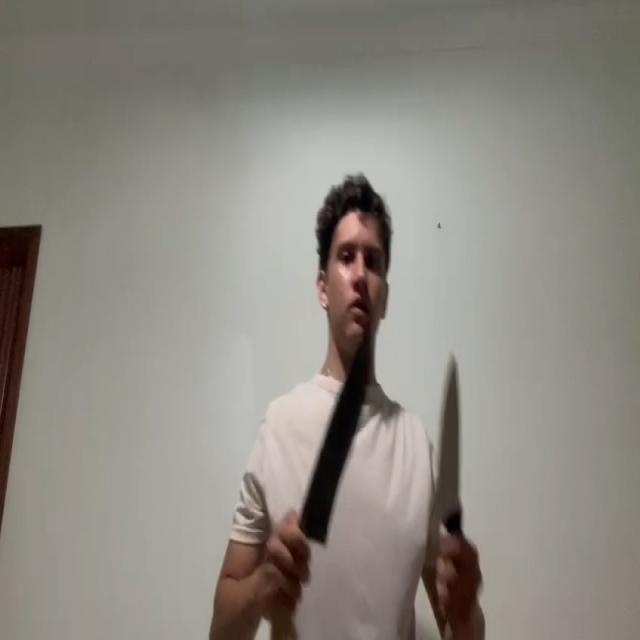knife: (300, 324, 372, 530), (435, 356, 463, 520)
